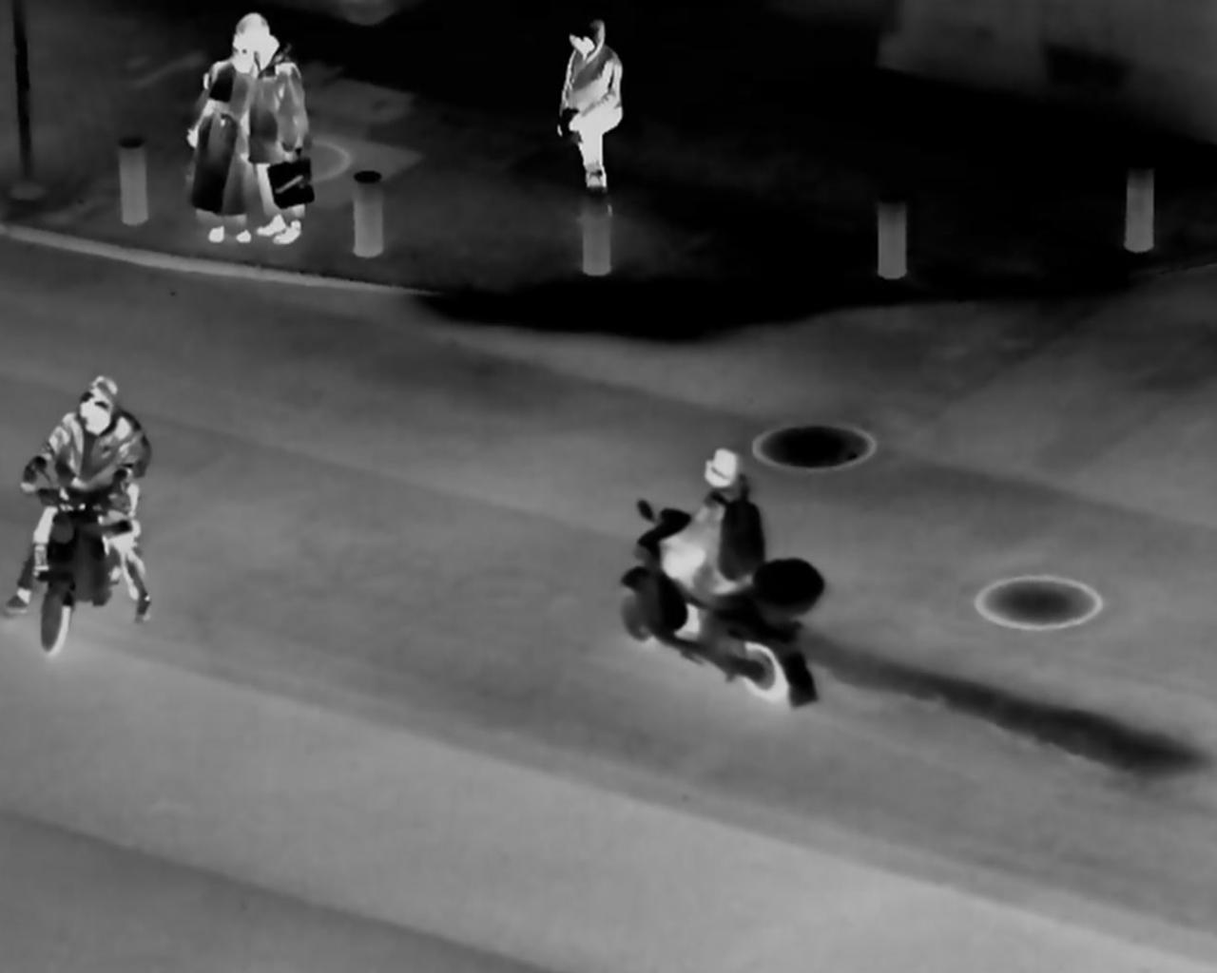person: (658, 431, 762, 639), (227, 9, 315, 250), (41, 367, 140, 578), (181, 29, 264, 246), (545, 19, 637, 191)
